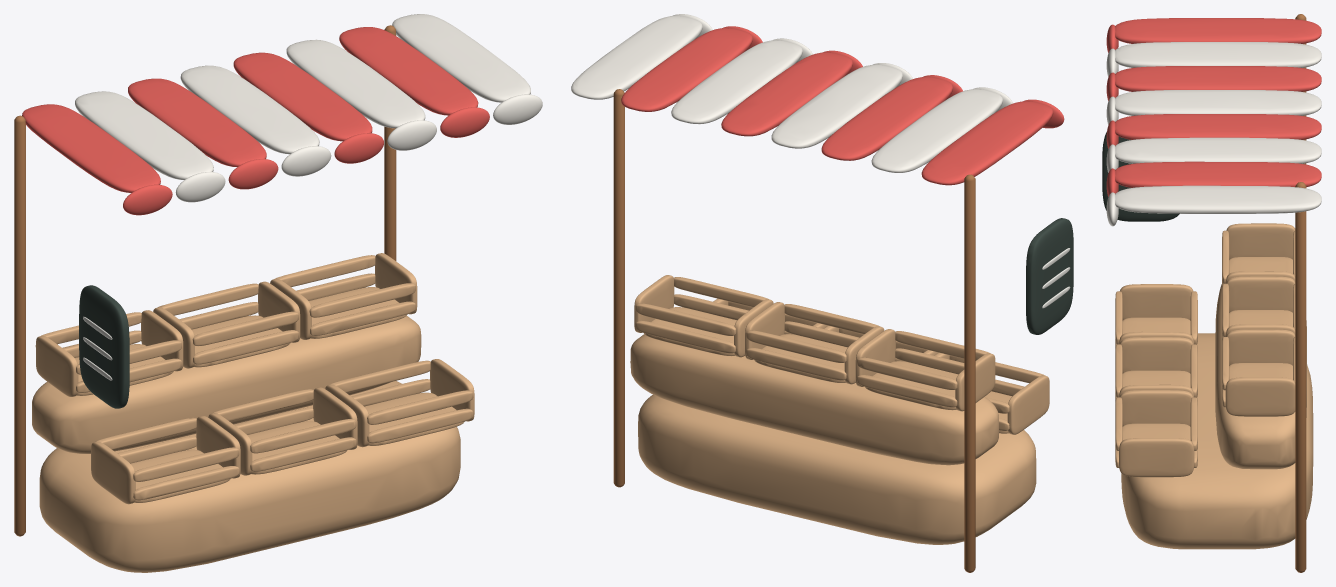
Rendered from vitrina_frutas_3.glb.
The picture shows the model from 3 angles, left to right: view 1: azimuth 30°, elevation 25°; view 2: azimuth 150°, elevation 25°; view 3: azimuth 270°, elevation 25°; orthographic projection. The views are drawn at different scales.
Visible parts, largest first — view 1: base.002, escalon, franja toldo, franja toldo.004, franja toldo.003, franja toldo.005, franja toldo.001, franja toldo.006, franja toldo.002, franja toldo.007, poste.004, pizarra (+48 smaller); view 2: base.002, escalon, franja toldo, franja toldo.003, franja toldo.004, franja toldo.002, franja toldo.005, franja toldo.006, franja toldo.001, franja toldo.007, poste.004, poste.005 (+24 smaller); view 3: base.002, franja toldo.007, escalon, franja toldo.005, franja toldo.004, franja toldo, franja toldo.001, franja toldo.002, franja toldo.003, franja toldo.006, poste.005, lado guacal.005 (+28 smaller).
Boxes of the visible parts, left/top/right/bottom form: base.002: left=39, top=381, right=460, bottom=572; escalon: left=32, top=315, right=421, bottom=453; franja toldo: left=22, top=104, right=160, bottom=192; franja toldo.004: left=233, top=52, right=372, bottom=141; franja toldo.003: left=180, top=65, right=319, bottom=154; franja toldo.005: left=286, top=39, right=425, bottom=128; franja toldo.001: left=75, top=91, right=213, bottom=179; franja toldo.006: left=339, top=27, right=478, bottom=115; franja toldo.002: left=128, top=78, right=266, bottom=166; franja toldo.007: left=392, top=14, right=530, bottom=102; poste.004: left=14, top=115, right=25, bottom=536; pizarra: left=79, top=285, right=129, bottom=408; base.002: left=638, top=394, right=1036, bottom=544; escalon: left=630, top=334, right=998, bottom=465; franja toldo: left=921, top=101, right=1053, bottom=185; franja toldo.003: left=771, top=64, right=902, bottom=148; franja toldo.004: left=721, top=52, right=852, bottom=136; franja toldo.002: left=821, top=77, right=952, bottom=160; franja toldo.005: left=671, top=40, right=802, bottom=124; franja toldo.006: left=621, top=28, right=752, bottom=111; franja toldo.001: left=871, top=89, right=1002, bottom=172; franja toldo.007: left=571, top=16, right=702, bottom=99; poste.004: left=964, top=174, right=975, bottom=572; poste.005: left=613, top=89, right=624, bottom=487; base.002: left=1121, top=333, right=1313, bottom=549; franja toldo.007: left=1115, top=185, right=1321, bottom=213; escalon: left=1215, top=284, right=1306, bottom=469; franja toldo.005: left=1115, top=137, right=1321, bottom=163; franja toldo.004: left=1115, top=114, right=1321, bottom=139; franja toldo: left=1115, top=18, right=1321, bottom=43; franja toldo.001: left=1115, top=42, right=1321, bottom=67; franja toldo.002: left=1115, top=66, right=1321, bottom=91; franja toldo.003: left=1115, top=90, right=1321, bottom=115; franja toldo.006: left=1115, top=161, right=1321, bottom=187; poste.005: left=1295, top=182, right=1306, bottom=572; lado guacal.005: left=1119, top=438, right=1194, bottom=477.
Size of the model in its own units: 2.21 by 2.06 by 1.05.
